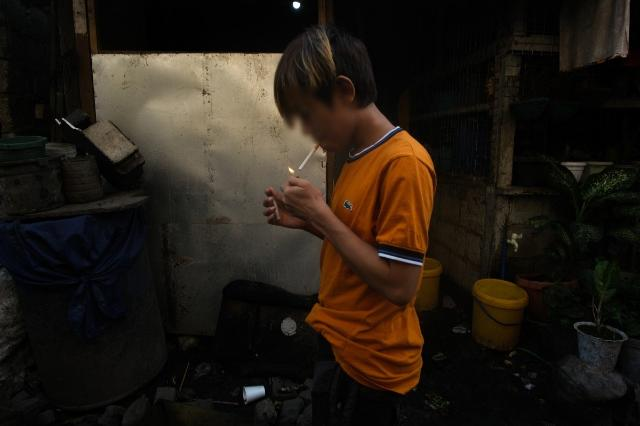Cigarette: (298, 144, 320, 172)
